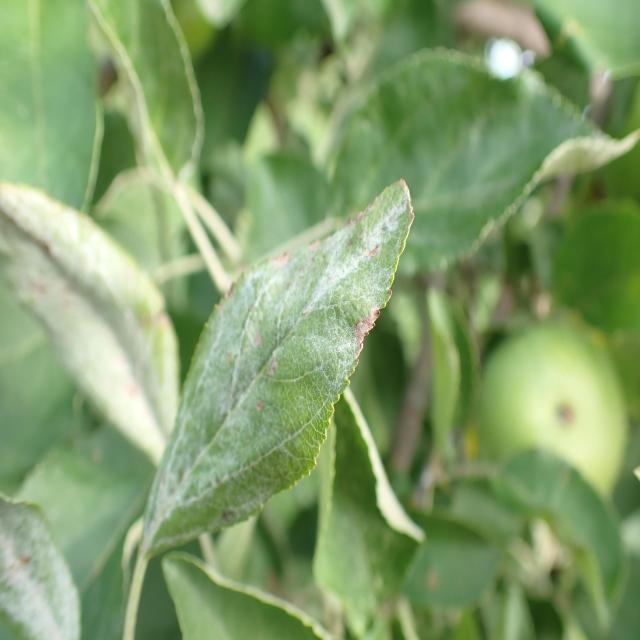Powdery_mildew: (136, 181, 414, 552)
